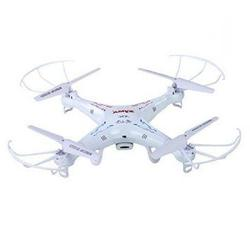drone: (4, 52, 244, 180)
